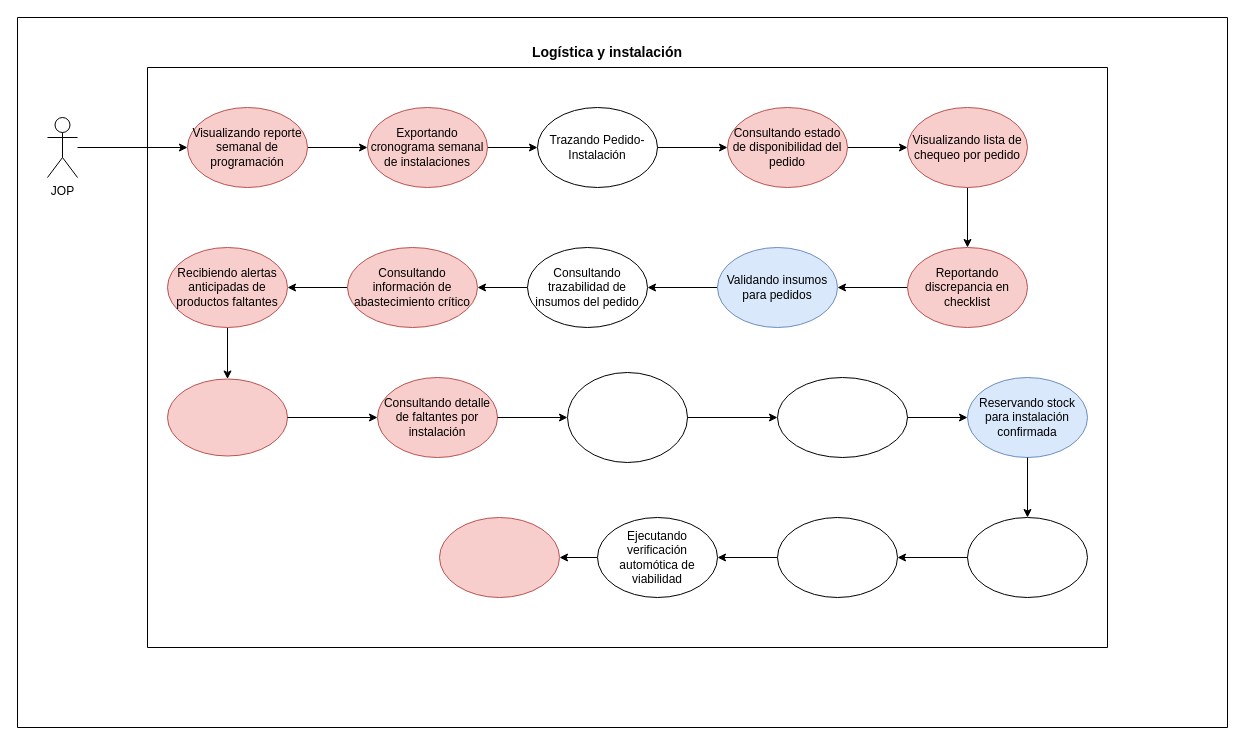
Some shapes in this 1245 by 745 pixel diagram are drawn without their labels. The shapes that lost their labels are listed below. From the top down, each one's centre as x and y in pixels, then its label:
At point (227, 417): "Generando solicitud de compra de emergencia".
At point (627, 417): "Vinculando insumos a pedido de instalación".
At point (842, 417): "Vinculando recepción de insumo especial a pedido".
At point (499, 557): "Resolviendo o descartando alerta de faltante".
At point (837, 557): "Confirmando carga y salida de transporte".
At point (1027, 557): "Controlando la carga en transporte".
